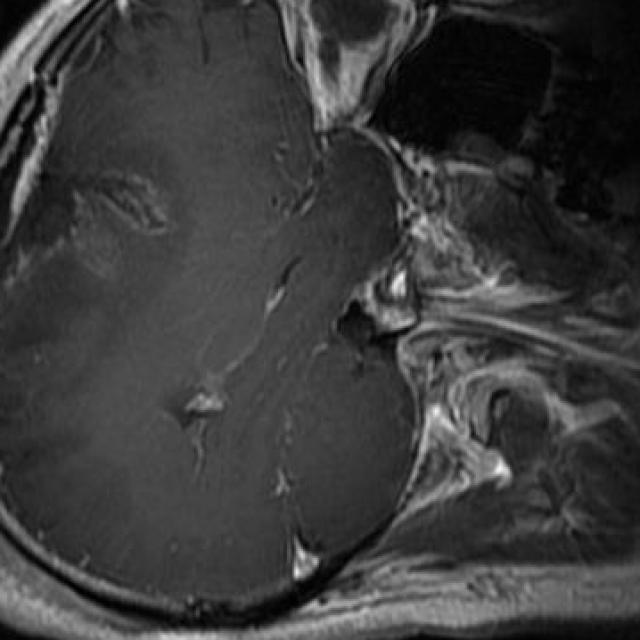glioma: (9, 178, 168, 275)
